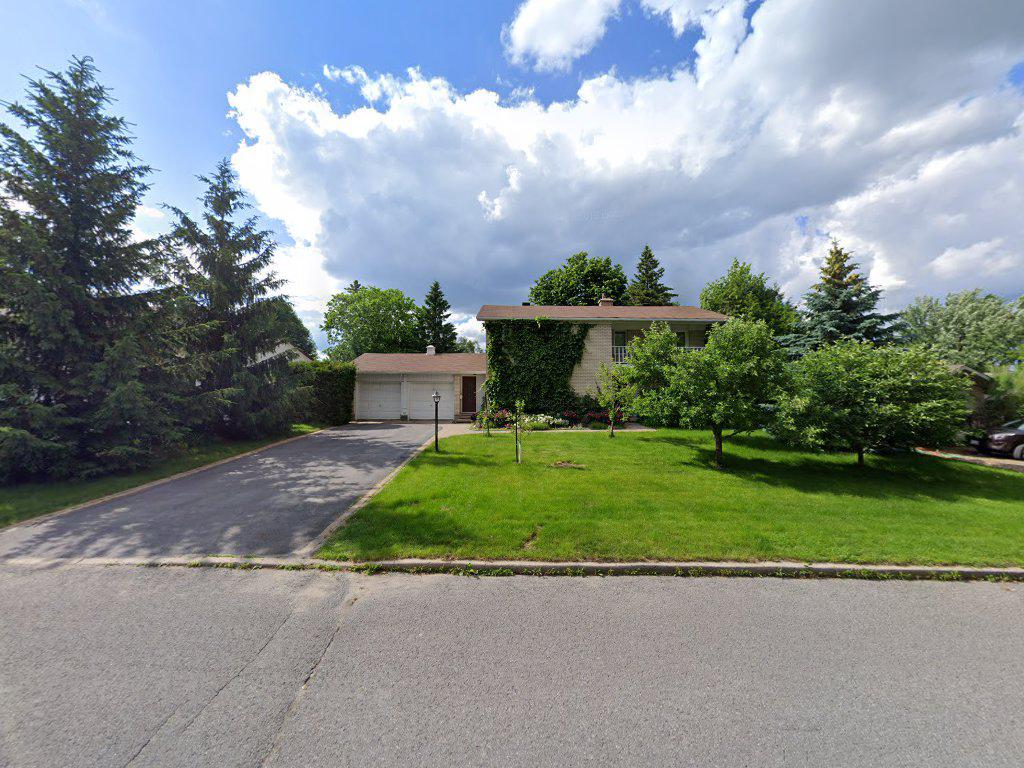trunk: (708, 416, 729, 460)
